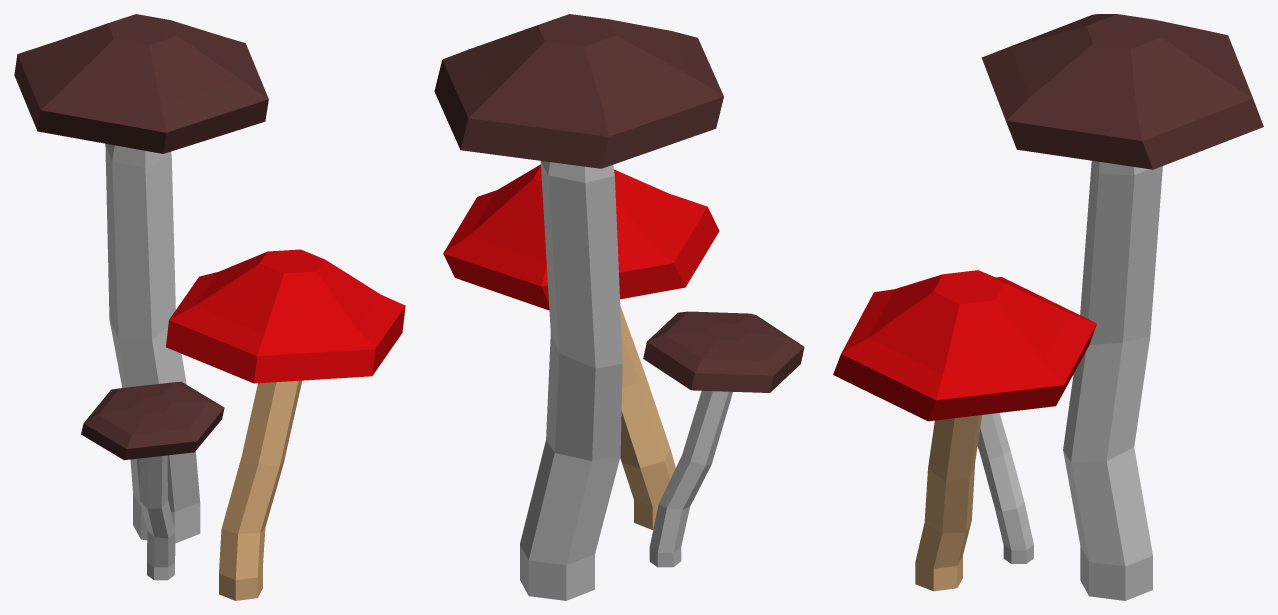
Rendered from Mushrooms.fbx.
3 views of the same model, side by side, from view 1: azimuth 30°, elevation 25°; view 2: azimuth 150°, elevation 25°; view 3: azimuth 270°, elevation 25° (orthographic). The views are drawn at different scales.
Parts seen in each view (by area): view 1: Mushrooms; view 2: Mushrooms; view 3: Mushrooms.
Part boxes in pixels (bbox=[...]): Mushrooms: bbox=[14, 14, 405, 600]; Mushrooms: bbox=[434, 14, 804, 600]; Mushrooms: bbox=[833, 14, 1263, 600].
Size of the model in its own units: 46.34 by 75.97 by 54.56.
